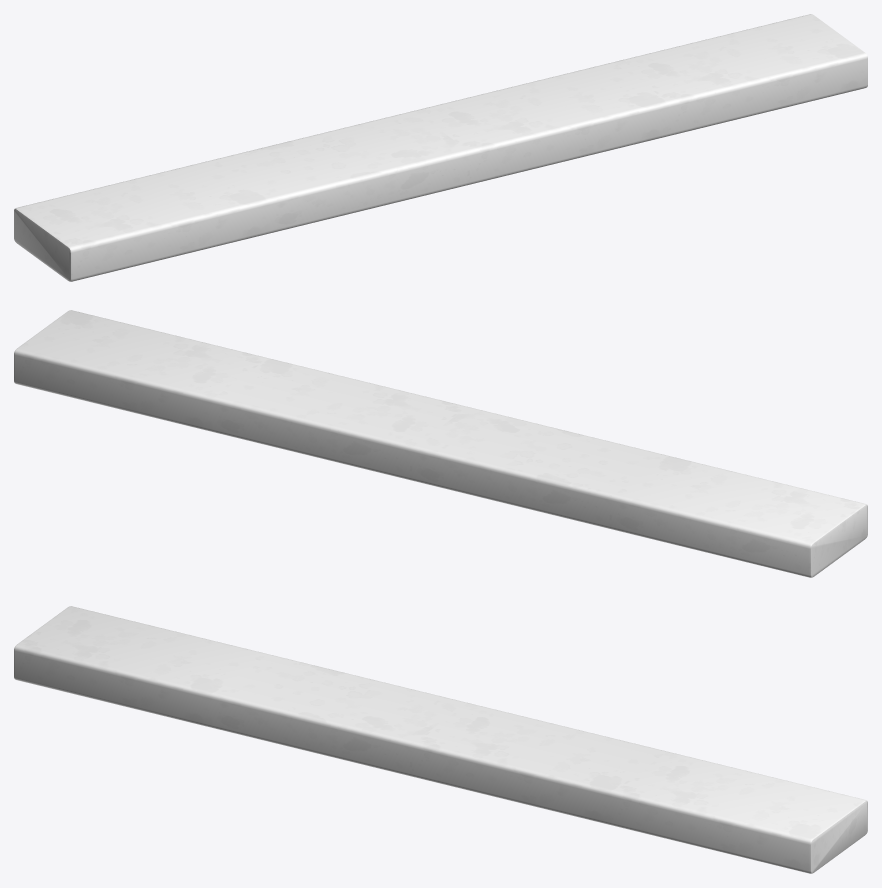
The model's file is obstacle_block_384x16.fbx.
3 views of the same model, one above another, from view 1: azimuth 30°, elevation 25°; view 2: azimuth 150°, elevation 25°; view 3: azimuth 330°, elevation 25° (orthographic).
Parts seen in each view (by area): view 1: obstacle_block_384x16; view 2: obstacle_block_384x16; view 3: obstacle_block_384x16.
Boxes of the visible parts, x1,y1,x2,y2 form: obstacle_block_384x16: [14, 14, 867, 281]; obstacle_block_384x16: [14, 310, 867, 577]; obstacle_block_384x16: [14, 606, 867, 873].
Size of the model in its own units: 384 by 16 by 48.
Materials: 1 (1 with a texture image).
